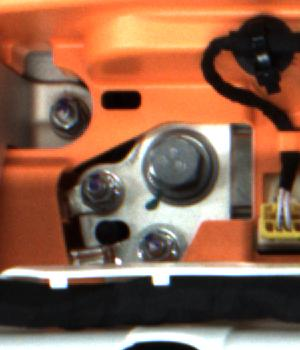nut_b: (137, 130, 230, 202)
screw_s: (39, 94, 82, 138), (133, 225, 177, 262), (84, 168, 118, 204)
